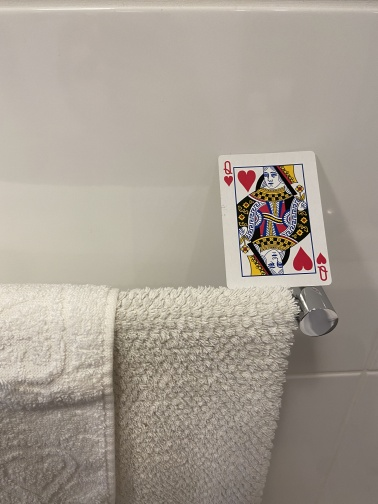queen: (216, 149, 334, 290)
